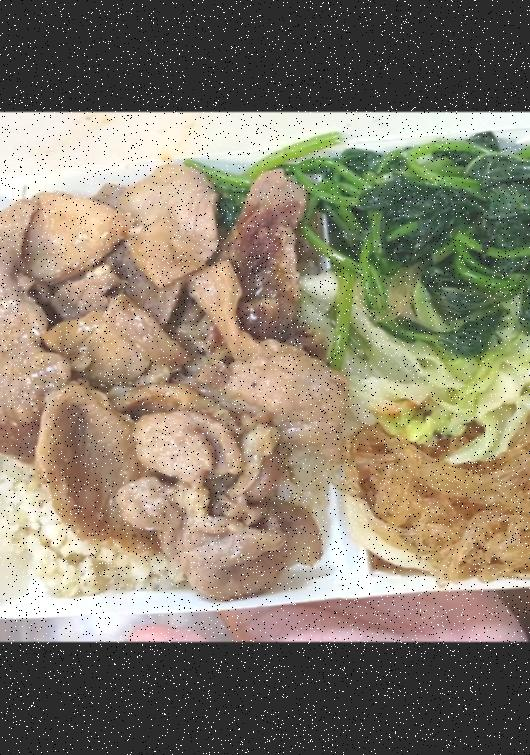big grilled chicken leg: (0, 123, 530, 621)
big herbal chicken leg: (0, 161, 321, 614)
braised fish fillet: (297, 136, 530, 276), (356, 417, 530, 568), (341, 290, 530, 423)
braised pork: (0, 177, 304, 583)
